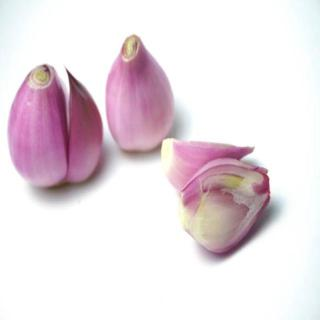Bawang Merah: (6, 62, 106, 191), (105, 34, 179, 155)
